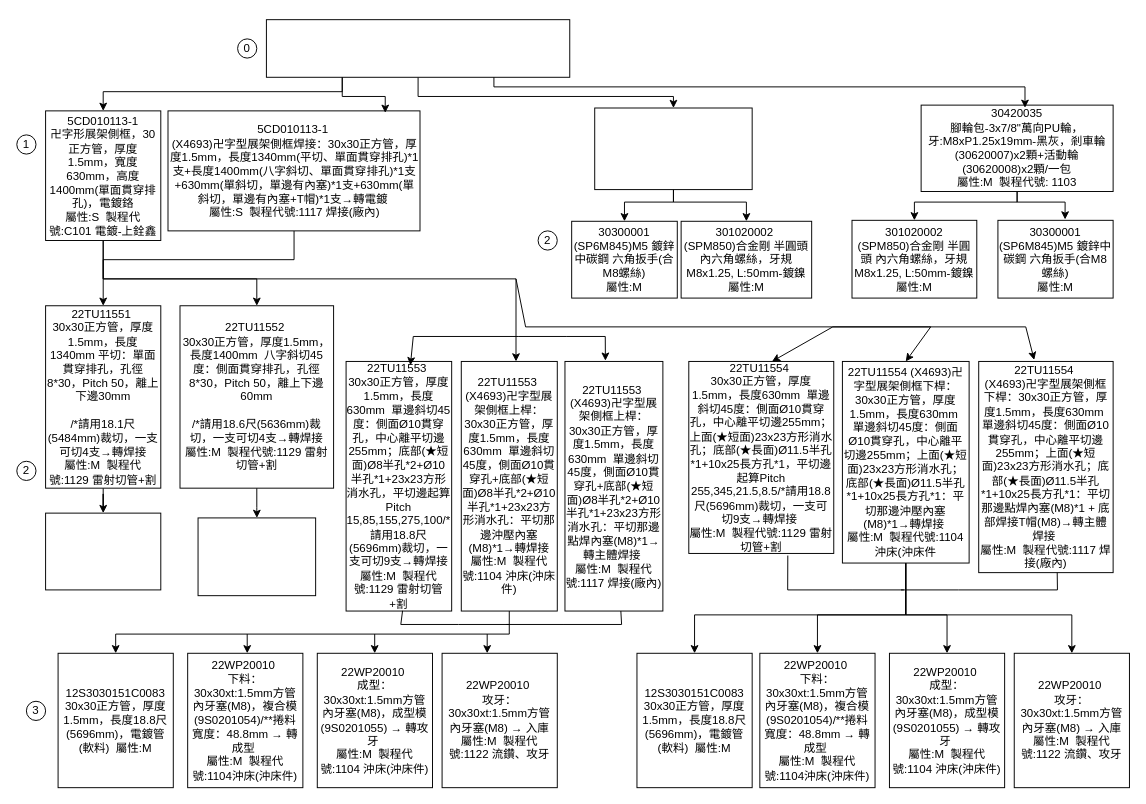
Image size: 1146x804. Some labels were removed from this diagram. The shapes that lost their labels are listed below. From the top down, each one's centre as x and y in pixels, then its label:
the point at 417,48: 5CD010113(X4693) 卍字形展架，30方管，框寬度620mm，高度1400mm，電鍍 屬性:M 製程代號: 1103
the point at 673,148: 30410284 螺絲包：M8x50mm內六角螺絲(301020002)x8支+板手(30300001)*1 屬性:M 製程代號: 1103
the point at 103,551: 12S3030151C0134 30x30正方管，厚度1.5mm，長度18.1尺(5484mm)，電鍍管 屬性:P
the point at 256,556: 12S3030151C0070 30x30正方管，厚度1.5mm，長度18.6尺(5636mm)，電鍍管 屬性:P
